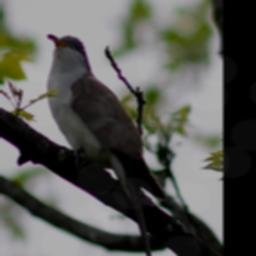Cuckoo: (45, 33, 168, 256)
